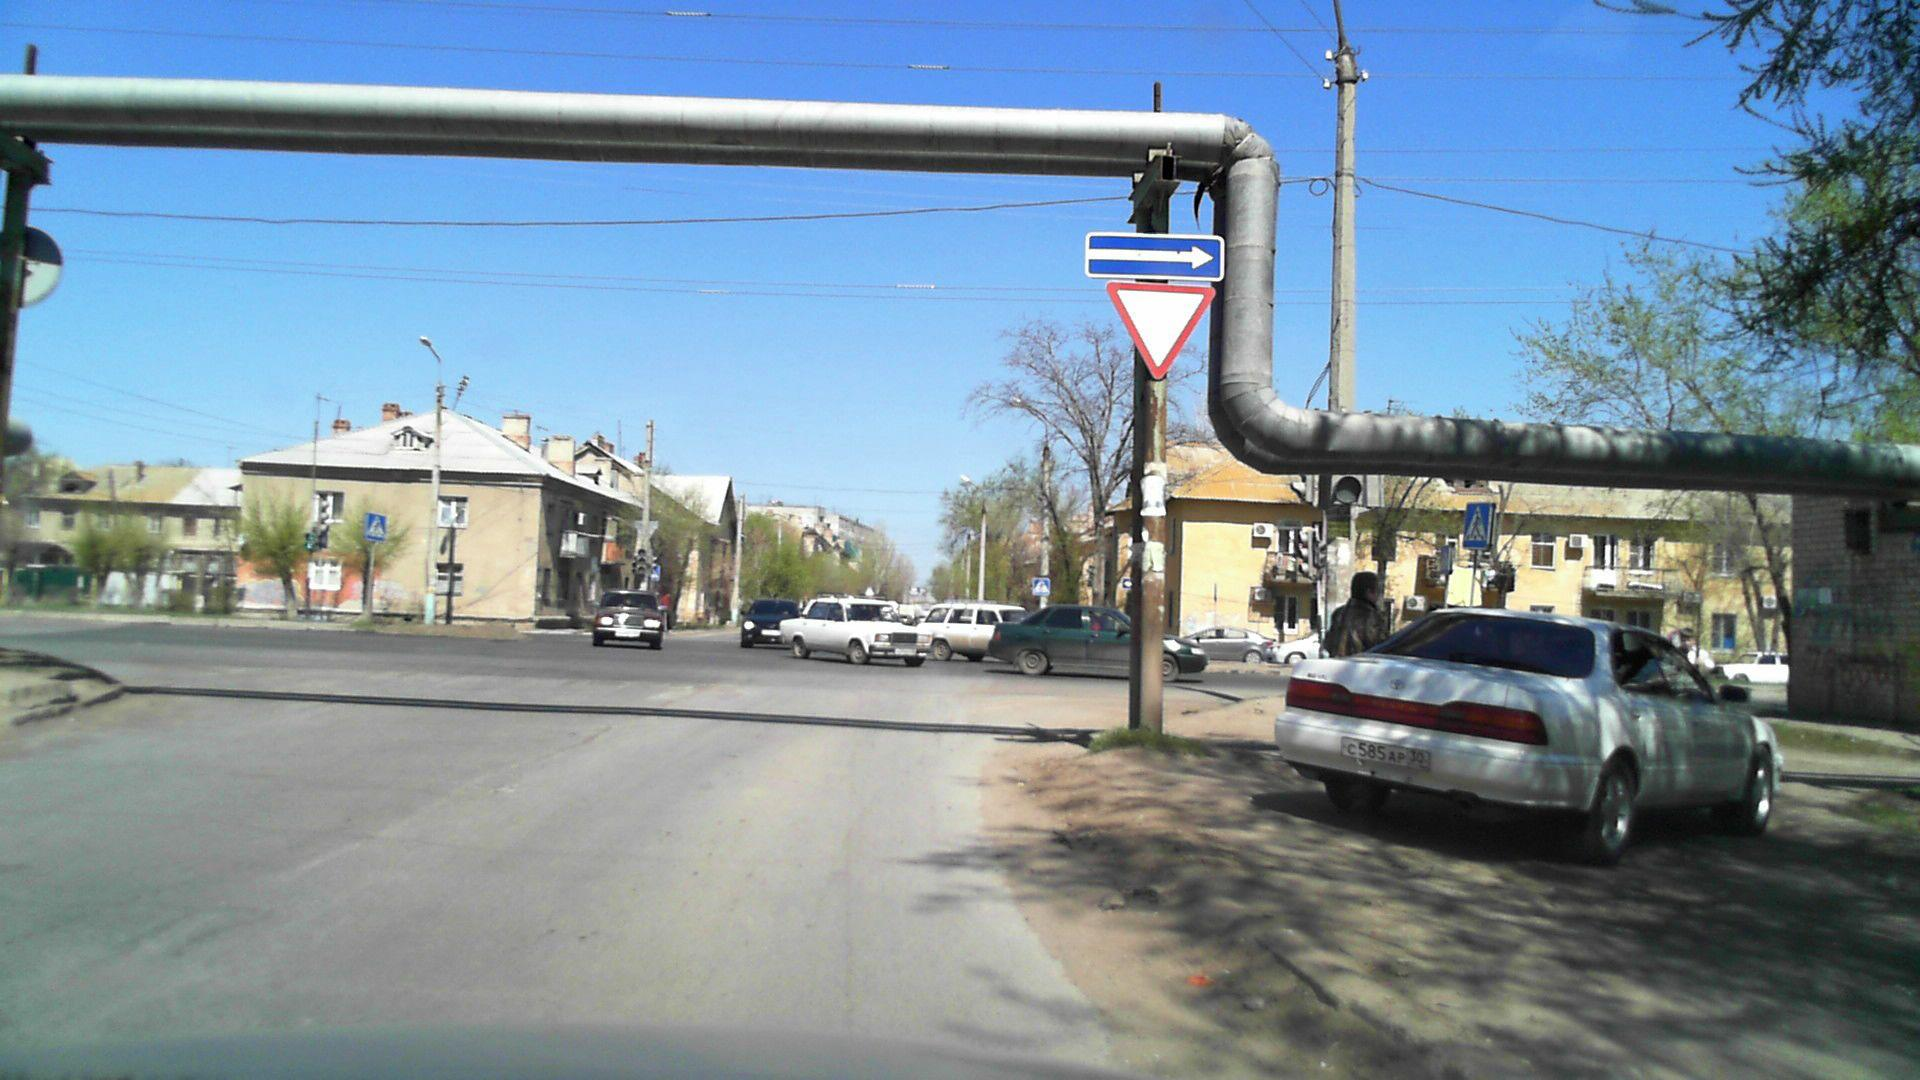2_4: (1102, 281, 1217, 388)
5_19_1: (1462, 500, 1498, 549), (365, 512, 388, 541), (1033, 578, 1051, 596)
5_19_2: (649, 566, 663, 580)
5_7_1: (1084, 231, 1224, 281)
5_7_2: (1122, 578, 1135, 591)
